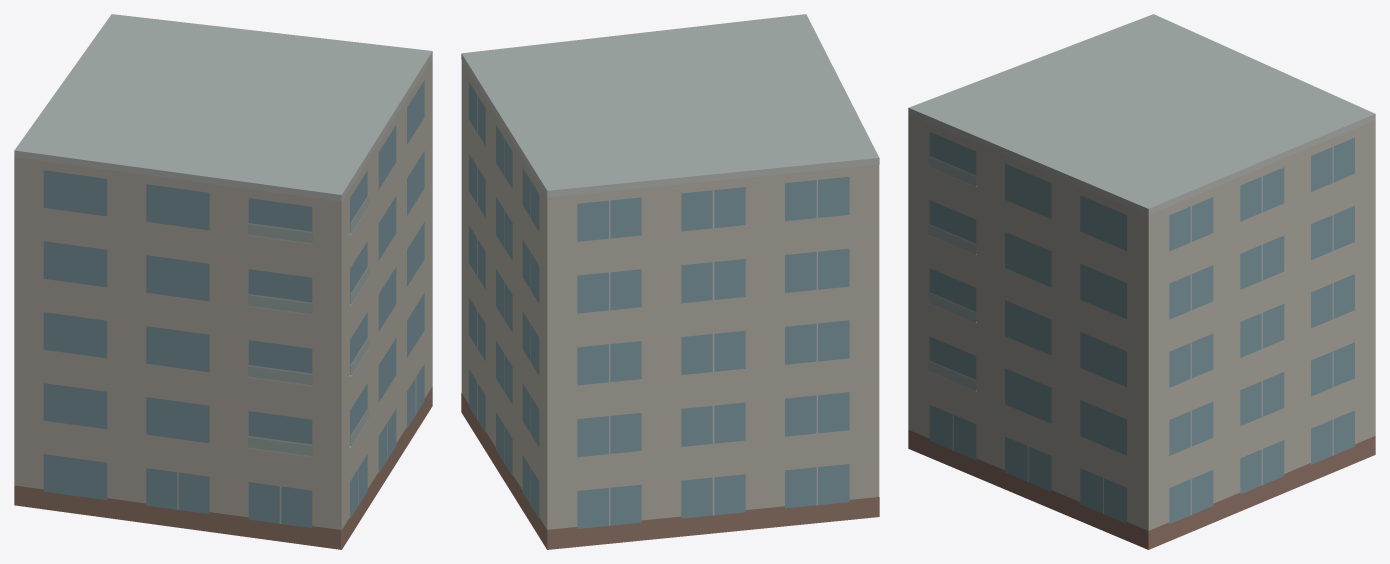
The model's file is survey-upis-32994179.glb.
3 renders of one model, left to right at view 1: azimuth 30°, elevation 25°; view 2: azimuth 150°, elevation 25°; view 3: azimuth 270°, elevation 25°, orthographic. The views are drawn at different scales.
Visible parts, largest first — view 1: survey-upis-32994179.tmp; view 2: survey-upis-32994179.tmp; view 3: survey-upis-32994179.tmp.
Boxes of the visible parts, x1=… form: survey-upis-32994179.tmp: x1=14, y1=14, x2=432, y2=549; survey-upis-32994179.tmp: x1=461, y1=14, x2=879, y2=549; survey-upis-32994179.tmp: x1=908, y1=14, x2=1375, y2=549.
Bounding box in the file's own units: 16.19 × 13.2 × 16.39.
